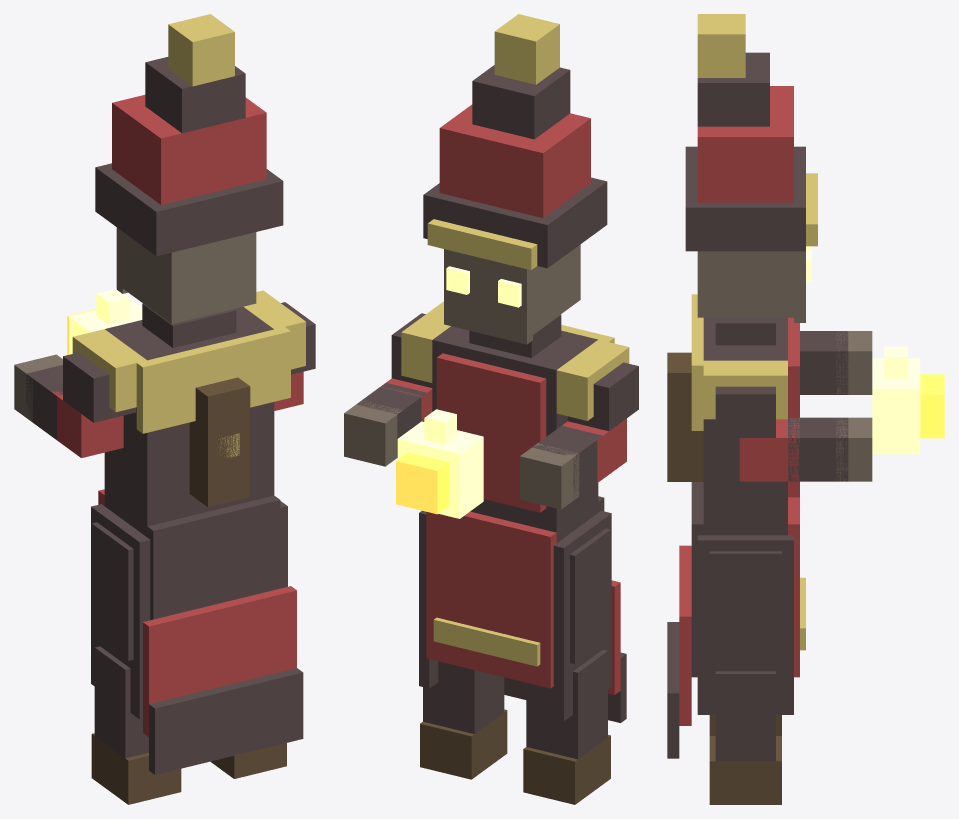
The model's file is voxel_cultist_pyromancer_68px.glb.
3 views of the same model, side by side, from view 1: azimuth 30°, elevation 25°; view 2: azimuth 150°, elevation 25°; view 3: azimuth 270°, elevation 25° (orthographic). The views are drawn at different scales.
Visible parts, largest first — view 1: robe_skirt_back_mid, robe_skirt_back_upper, hood_mid, robe_skirt_back_lower, torso_core, hood_base, ritual_shawl_back, head_core, scroll_case_body, hood_tip_lower, thigh_right, robe_skirt_right_flare (+17 smaller); view 2: robe_skirt_front, hood_mid, chest_robe_plate, hood_base, shin_right, mask_face_front, torso_core, hood_tip_lower, thigh_right, robe_skirt_right_flare, shin_left, boot_left (+25 smaller); view 3: hood_mid, thigh_left, hood_base, robe_skirt_left_flare, torso_core, head_core, shin_left, fireball_core, hood_tip_lower, forearm_left, scroll_case_body, boot_left (+19 smaller).
Part boxes in pixels (<box>): robe_skirt_back_mid: <box>143,586,296,736</box>; robe_skirt_back_upper: <box>147,495,280,620</box>; hood_mid: <box>112,95,266,204</box>; robe_skirt_back_lower: <box>149,668,303,774</box>; torso_core: <box>104,307,274,515</box>; hood_base: <box>95,163,283,256</box>; ritual_shawl_back: <box>136,327,290,433</box>; head_core: <box>122,232,256,324</box>; scroll_case_body: <box>189,377,250,507</box>; hood_tip_lower: <box>145,57,245,133</box>; thigh_right: <box>91,522,133,660</box>; robe_skirt_right_flare: <box>91,504,150,719</box>; robe_skirt_front: <box>426,511,556,688</box>; hood_mid: <box>439,104,590,217</box>; chest_robe_plate: <box>436,353,546,512</box>; hood_base: <box>423,177,607,268</box>; shin_right: <box>526,650,607,759</box>; mask_face_front: <box>444,249,532,344</box>; torso_core: <box>432,326,598,521</box>; hood_tip_lower: <box>472,65,570,139</box>; thigh_right: <box>570,528,610,663</box>; robe_skirt_right_flare: <box>553,510,611,721</box>; shin_left: <box>423,661,504,733</box>; boot_left: <box>420,709,507,779</box>; hood_mid: <box>697,86,793,202</box>; thigh_left: <box>709,551,781,662</box>; hood_base: <box>685,146,805,251</box>; robe_skirt_left_flare: <box>697,535,793,714</box>; torso_core: <box>703,317,787,513</box>; head_core: <box>697,251,793,317</box>; shin_left: <box>715,671,775,761</box>; fireball_core: <box>872,358,920,454</box>; hood_tip_lower: <box>697,52,769,126</box>; forearm_left: <box>788,417,848,481</box>; scroll_case_body: <box>667,352,703,481</box>; boot_left: <box>709,736,781,804</box>.
Bounding box in the file's own units: 0.6563 × 2.12 × 0.7188.
